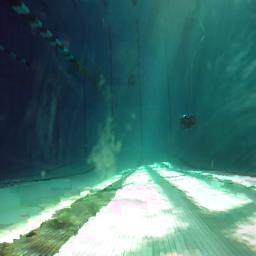Full: (127, 80, 137, 86)
front: (178, 113, 199, 131)
